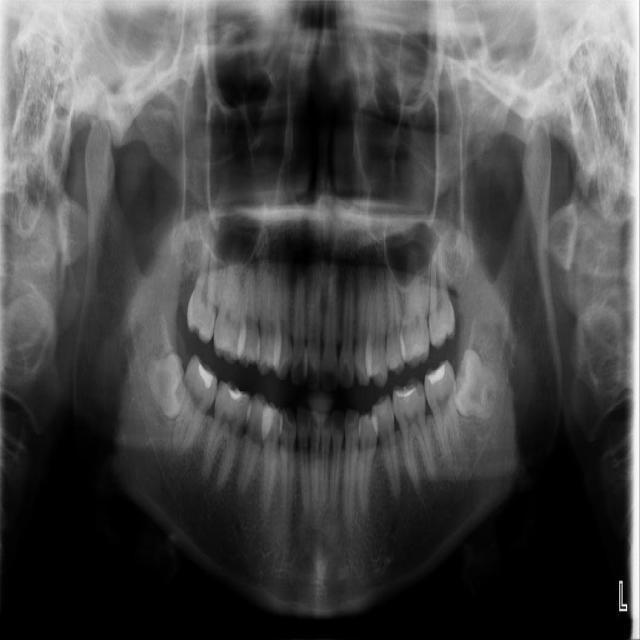Filling: (225, 385, 251, 402), (427, 363, 448, 384), (405, 344, 427, 363), (198, 364, 214, 388), (395, 385, 417, 398)
impacted tooth: (455, 349, 504, 418), (143, 353, 181, 417)
